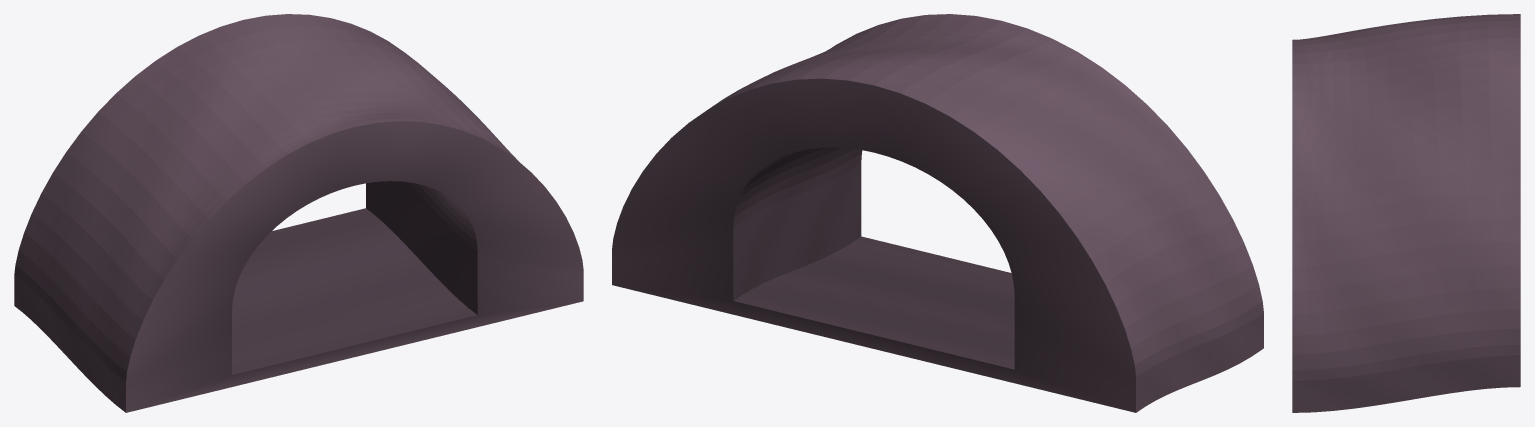
File: grade_up_terrain.glb
3 renders of one model, left to right at view 1: azimuth 30°, elevation 25°; view 2: azimuth 150°, elevation 25°; view 3: azimuth 270°, elevation 25°, orthographic. The views are drawn at different scales.
Visible parts, largest first — view 1: TerrainRoof.012; view 2: TerrainRoof.012; view 3: TerrainRoof.012.
Part boxes in pixels (x1,y1,x2,y2): TerrainRoof.012: [14, 14, 583, 412]; TerrainRoof.012: [612, 14, 1263, 412]; TerrainRoof.012: [1292, 14, 1520, 412].
Bounding box in the file's own units: 28.4 × 15.15 × 12.
